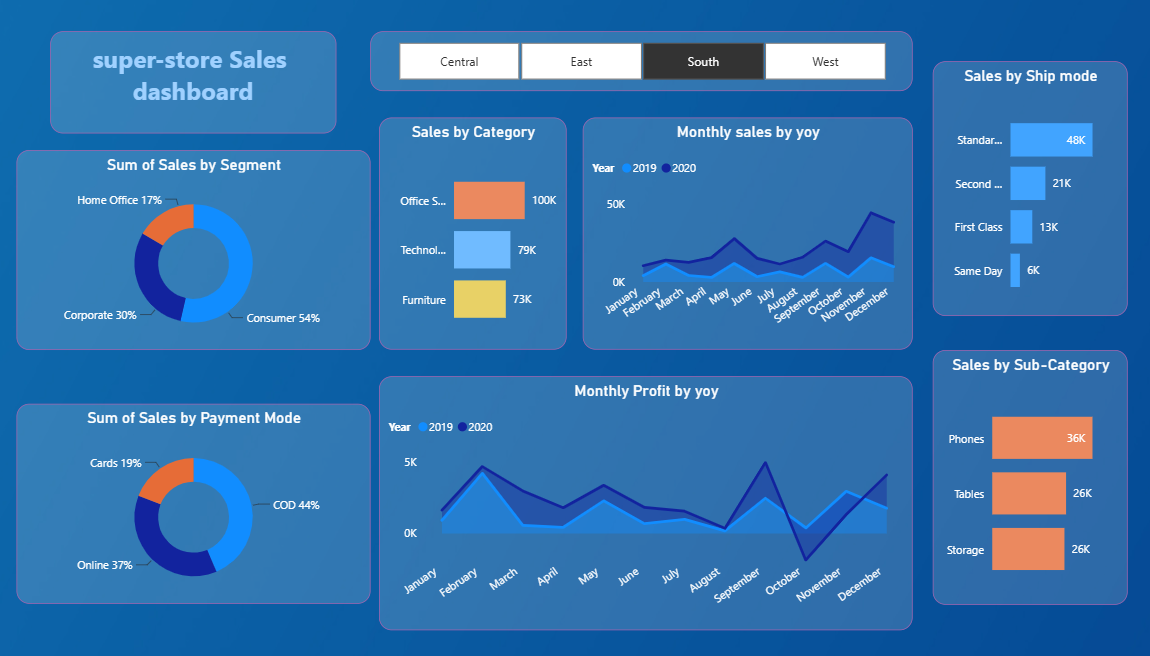

The page's visual inventory and layout, read from the dashboard file:
{"tool":"powerbi","page":{"name":"Page 1","canvas":[1280,720],"ordinal":0},"visuals":[{"type":"clusteredBarChart","title":"Sales by Category","fields":{"Category":["SuperStore_Sales_Dataset.Category"],"Y":["Sum(SuperStore_Sales_Dataset.Sales)"]},"box":[416.4,128.8,205.5,254.8],"z":0},{"type":"clusteredBarChart","title":"Sales by Sub-Category","fields":{"Category":["SuperStore_Sales_Dataset.Sub-Category"],"Y":["Sum(SuperStore_Sales_Dataset.Sales)"]},"box":[1023.3,383.6,213.7,279.5],"z":1000},{"type":"clusteredBarChart","title":"Sales by Ship mode","fields":{"Category":["SuperStore_Sales_Dataset.Ship Mode"],"Y":["Sum(SuperStore_Sales_Dataset.Sales)"]},"box":[1023.3,67.1,213.7,279.5],"z":2000},{"type":"stackedAreaChart","title":"Monthly sales by yoy","fields":{"Y":["Sum(SuperStore_Sales_Dataset.Sales)"],"Category":["SuperStore_Sales_Dataset.Order Date.Variation.Date Hierarchy.Month","SuperStore_Sales_Dataset.Order Date.Variation.Date Hierarchy.Day"],"Series":["SuperStore_Sales_Dataset.Order Date.Variation.Date Hierarchy.Year"]},"box":[639.7,128.8,361.6,254.8],"z":3000},{"type":"stackedAreaChart","title":"Monthly Profit by yoy","fields":{"Category":["SuperStore_Sales_Dataset.Order Date.Variation.Date Hierarchy.Month","SuperStore_Sales_Dataset.Order Date.Variation.Date Hierarchy.Day"],"Series":["SuperStore_Sales_Dataset.Order Date.Variation.Date Hierarchy.Year"],"Y":["Sum(SuperStore_Sales_Dataset.Profit)"]},"box":[416.4,412.3,584.9,278.1],"z":4000},{"type":"donutChart","fields":{"Category":["SuperStore_Sales_Dataset.Segment"],"Y":["Sum(SuperStore_Sales_Dataset.Sales)"]},"box":[19.2,164.4,387.7,219.2],"z":5000},{"type":"donutChart","fields":{"Category":["SuperStore_Sales_Dataset.Payment Mode"],"Y":["Sum(SuperStore_Sales_Dataset.Sales)"]},"box":[19.2,442.5,387.7,219.2],"z":6000},{"type":"slicer","fields":{"Values":["SuperStore_Sales_Dataset.Region"]},"box":[406.8,34.2,594.5,65.8],"z":7000},{"type":"textbox","box":[56.2,34.2,313.7,112.3],"z":8000}]}

Visuals, with their boxes in screenshot pixels (x1, y1, x2, y2), scaled from the page's 1280x720 canvas onto the 1150x656 screenshot:
"Sales by Category" clusteredBarChart: pyautogui.locateOnScreen(374, 117, 559, 350)
"Sales by Sub-Category" clusteredBarChart: pyautogui.locateOnScreen(919, 350, 1111, 604)
"Sales by Ship mode" clusteredBarChart: pyautogui.locateOnScreen(919, 61, 1111, 316)
"Monthly sales by yoy" stackedAreaChart: pyautogui.locateOnScreen(575, 117, 900, 350)
"Monthly Profit by yoy" stackedAreaChart: pyautogui.locateOnScreen(374, 376, 900, 629)
donutChart - SuperStore_Sales_Dataset.Segment x Sum(SuperStore_Sales_Dataset.Sales): pyautogui.locateOnScreen(17, 150, 366, 350)
donutChart - SuperStore_Sales_Dataset.Payment Mode x Sum(SuperStore_Sales_Dataset.Sales): pyautogui.locateOnScreen(17, 403, 366, 603)
slicer - SuperStore_Sales_Dataset.Region: pyautogui.locateOnScreen(365, 31, 900, 91)
textbox: pyautogui.locateOnScreen(50, 31, 332, 133)
